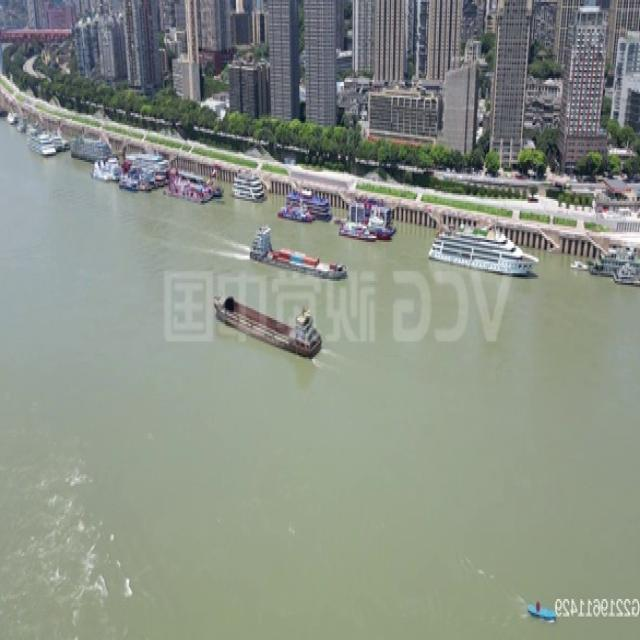cargoship: (207, 295, 333, 363), (237, 233, 347, 271)
passenger ship: (433, 218, 542, 270), (596, 226, 640, 287), (173, 169, 226, 202), (288, 179, 330, 215), (345, 209, 395, 237), (116, 160, 166, 188), (232, 166, 270, 197)
